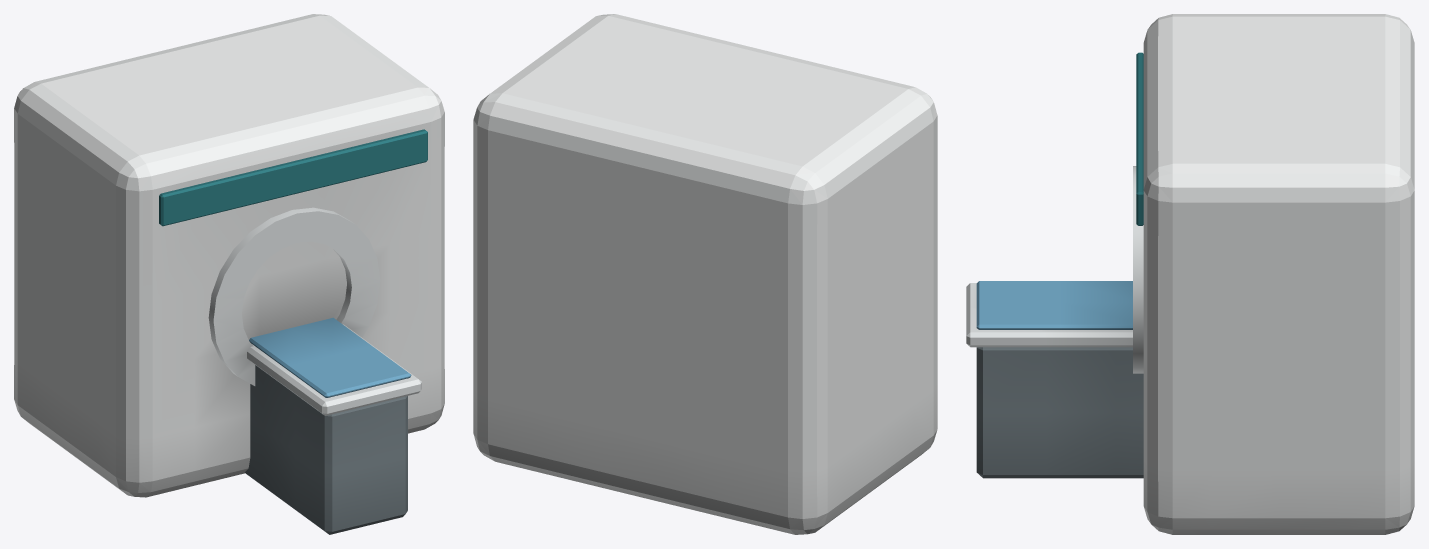
Rendered from mri.glb.
The picture shows the model from 3 angles, left to right: view 1: azimuth 30°, elevation 25°; view 2: azimuth 150°, elevation 25°; view 3: azimuth 270°, elevation 25°; orthographic projection. The views are drawn at different scales.
Parts seen in each view (by area): view 1: magnet, pedestal, bezel, stripe, pad, table; view 2: magnet; view 3: magnet, pedestal, pad, table, bezel, stripe.
Part boxes in pixels (x1=…): magnet: x1=14, y1=14, x2=444, y2=497; pedestal: x1=245, y1=365, x2=407, y2=534; bezel: x1=208, y1=207, x2=380, y2=385; stripe: x1=159, y1=129, x2=427, y2=226; pad: x1=249, y1=317, x2=411, y2=397; table: x1=247, y1=324, x2=421, y2=415; magnet: x1=473, y1=14, x2=937, y2=534; magnet: x1=1143, y1=14, x2=1414, y2=534; pedestal: x1=976, y1=347, x2=1143, y2=478; pad: x1=976, y1=281, x2=1132, y2=329; table: x1=966, y1=283, x2=1132, y2=347; bezel: x1=1133, y1=166, x2=1143, y2=373; stripe: x1=1136, y1=52, x2=1143, y2=225.
Bounding box in the file's own units: 1.95 × 1.95 × 2.15.
